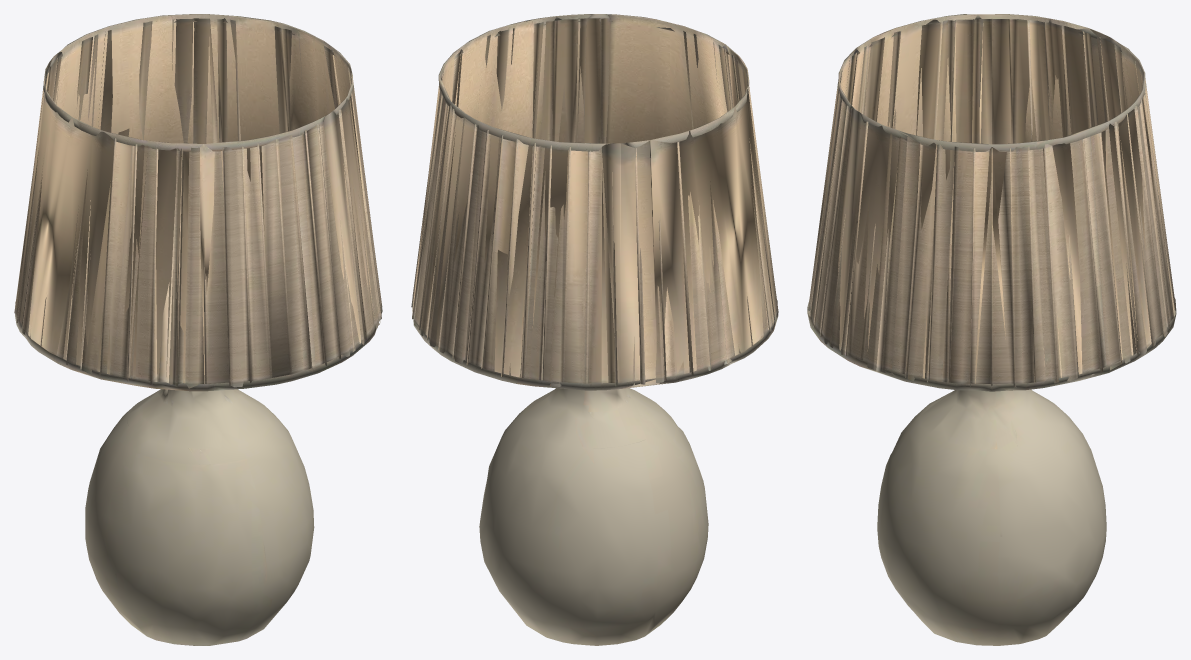
Rendered from BedsideLamp.glb.
The picture shows the model from 3 angles, left to right: view 1: azimuth 30°, elevation 25°; view 2: azimuth 150°, elevation 25°; view 3: azimuth 270°, elevation 25°; orthographic projection.
Bounding box in the file's own units: 0.5933 × 0.9512 × 0.5922.
Materials: 1 (1 with a texture image).
